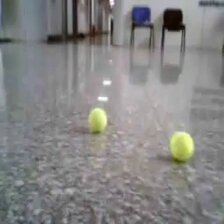tennis: (170, 132, 194, 159), (87, 107, 107, 130)
